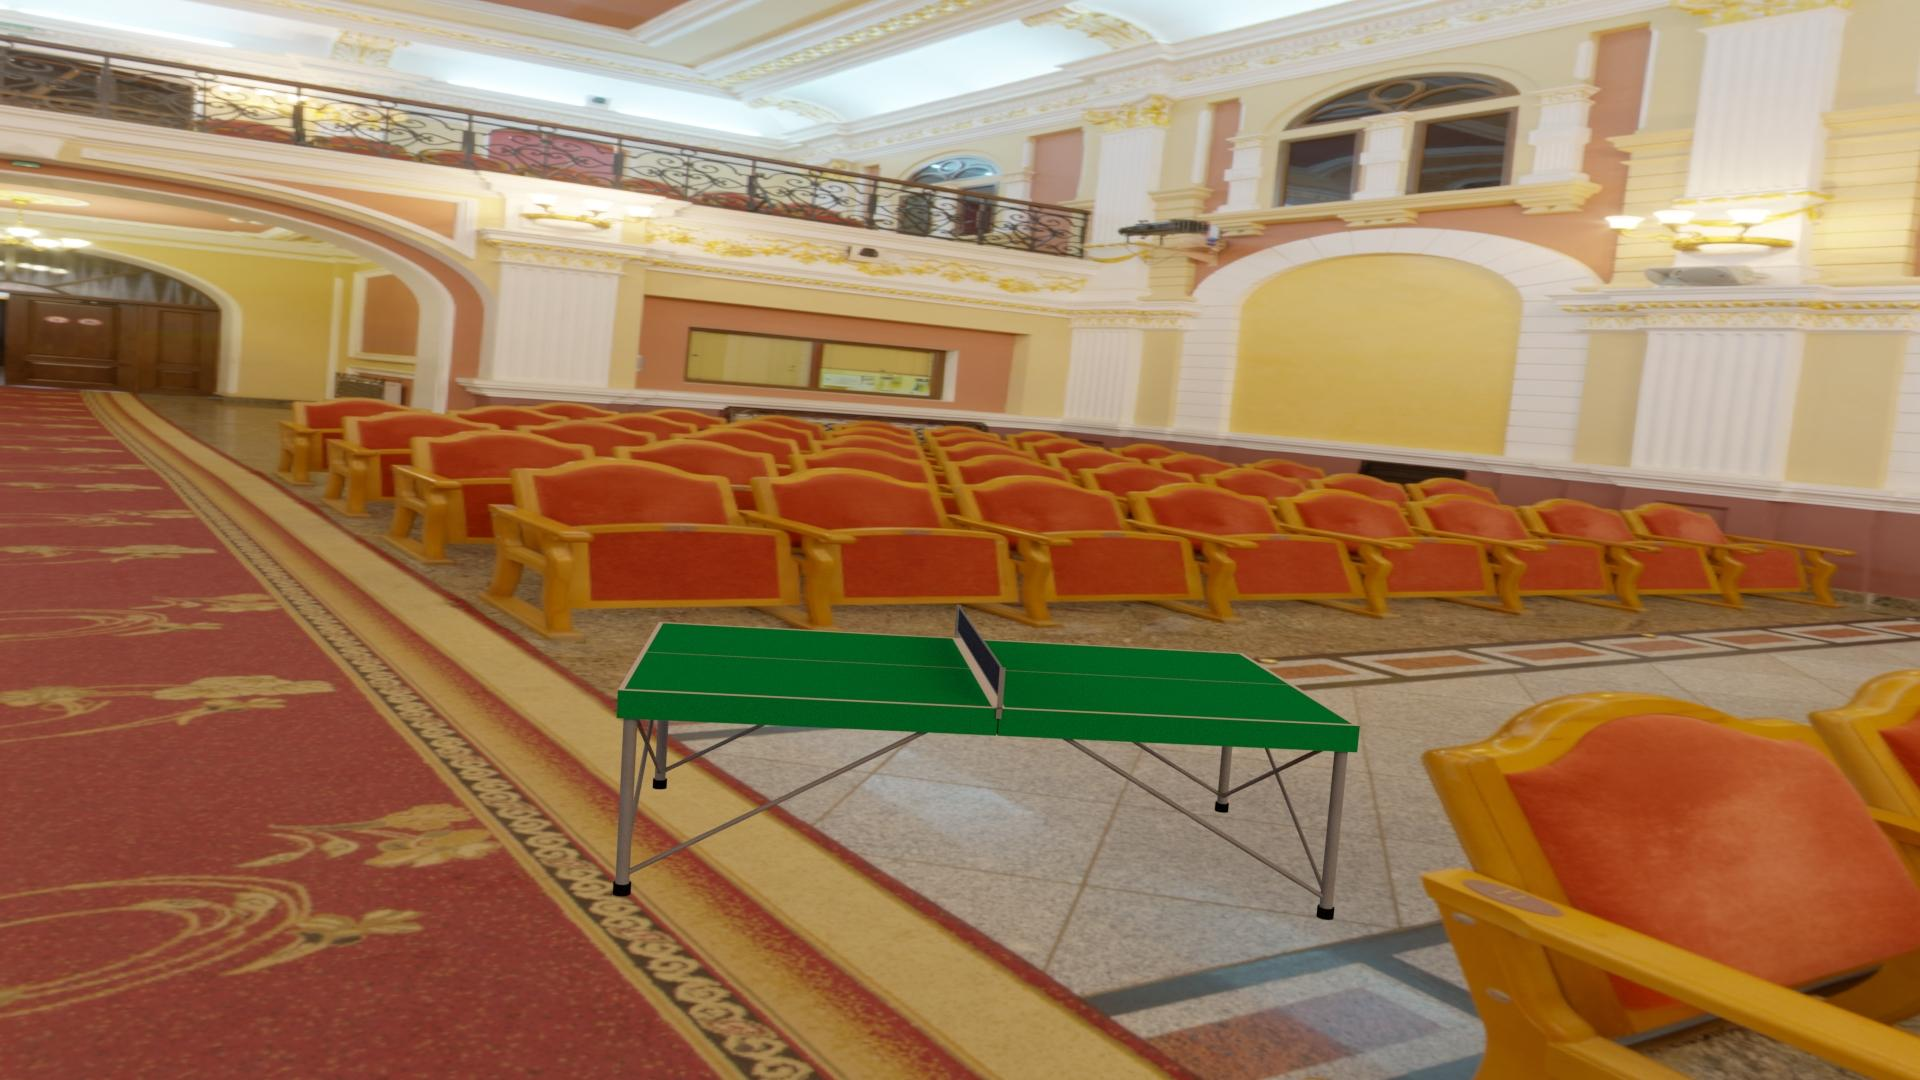table: (624, 622, 1353, 724)
